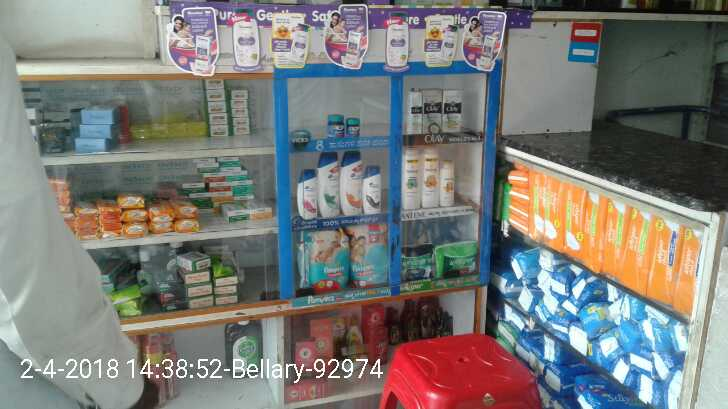vicks: (328, 113, 346, 136), (346, 118, 360, 136)
